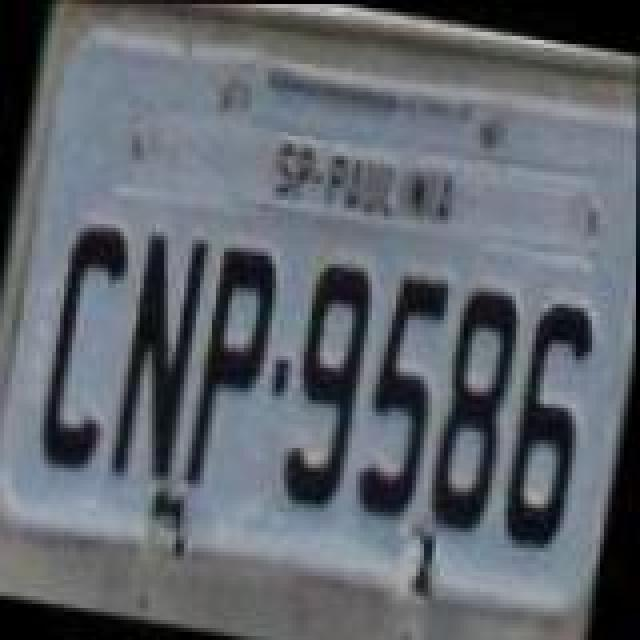5: (350, 270, 454, 526)
6: (496, 296, 604, 556)
8: (422, 280, 526, 536)
9: (278, 256, 382, 512)
C: (32, 220, 136, 480)
N: (108, 230, 212, 490)
P: (184, 240, 288, 496)
